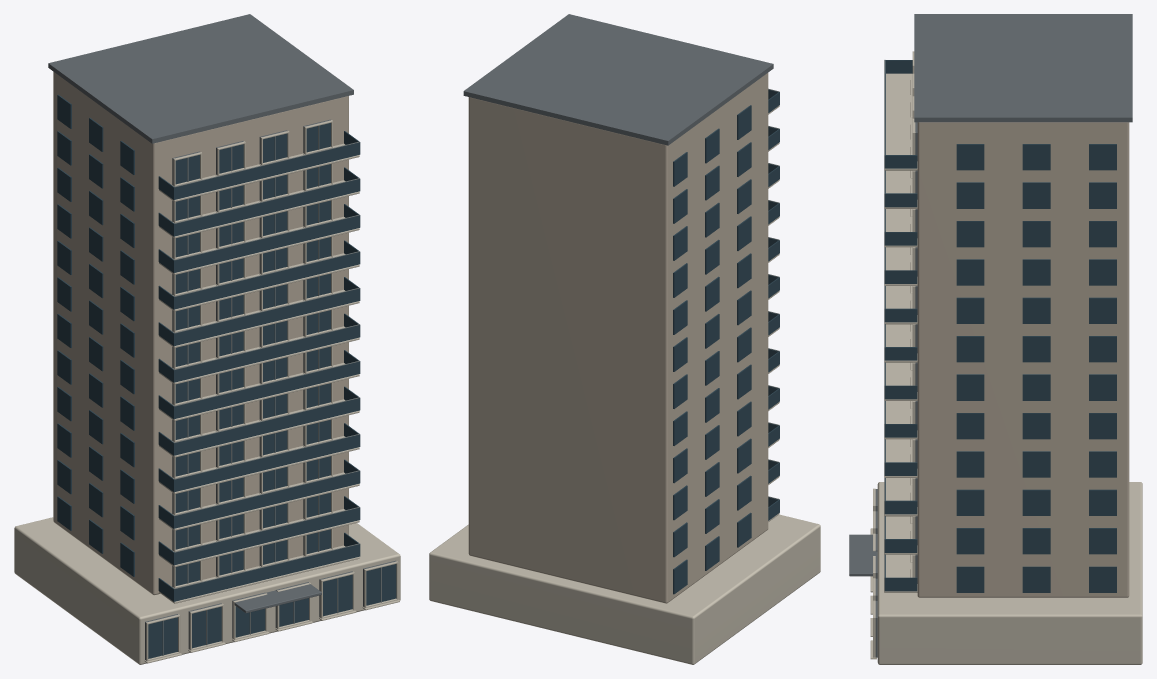
The model's file is residential-tower-miniature.glb.
3 views of the same model, side by side, from view 1: azimuth 30°, elevation 25°; view 2: azimuth 150°, elevation 25°; view 3: azimuth 270°, elevation 25° (orthographic). The views are drawn at different scales.
Visible parts, largest first — view 1: glass, wall, stone, roof, frame; view 2: wall, stone, roof, glass; view 3: wall, glass, stone, roof, frame.
Part boxes in pixels (x1,y1,x2,y2): glass: (57,94,396,658); wall: (53,71,348,595); stone: (14,120,400,664); roof: (48,14,396,659); frame: (162,126,381,655); wall: (468,73,768,603); stone: (429,105,820,664); roof: (463,14,773,145); glass: (673,89,779,594); wall: (917,122,1129,597); glass: (884,60,1116,592); stone: (870,51,1142,664); roof: (849,14,1132,657); frame: (884,60,885,577).
Bounding box in the file's own units: 24 × 44.4 × 22.15.
